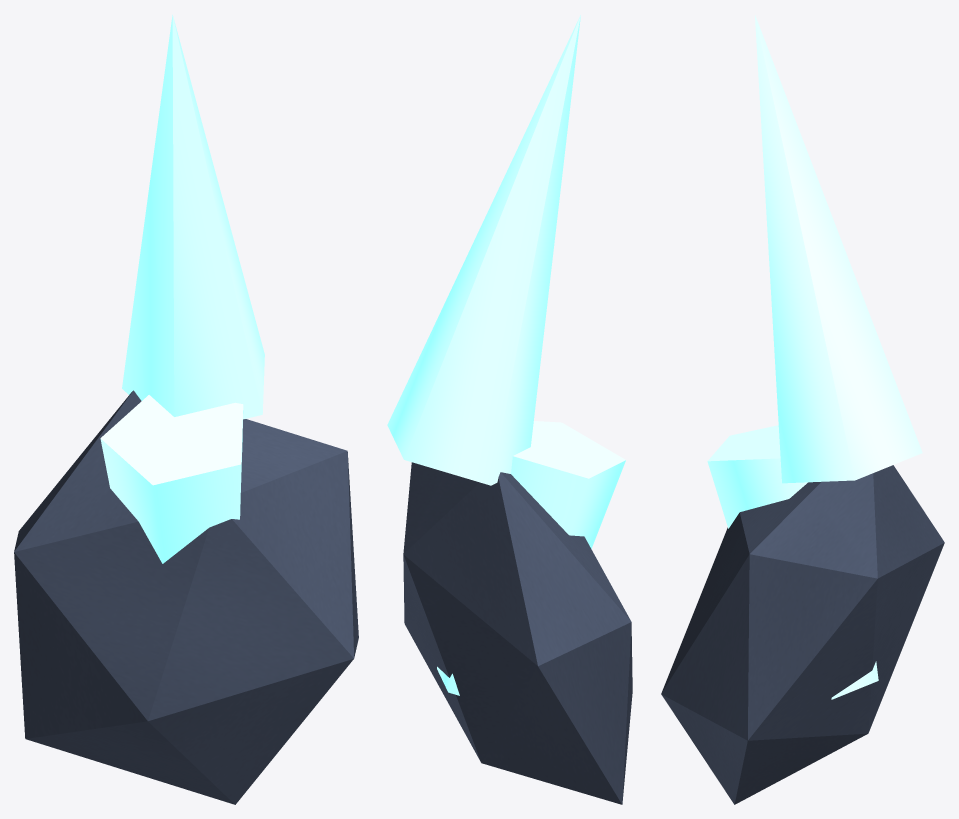
Rendered from detail-crystal-light.glb.
The picture shows the model from 3 angles, left to right: view 1: azimuth 30°, elevation 25°; view 2: azimuth 150°, elevation 25°; view 3: azimuth 270°, elevation 25°; orthographic projection. The views are drawn at different scales.
Visible parts, largest first — view 1: detail-crystal-light_stone, detail-crystal-light_glow; view 2: detail-crystal-light_stone, detail-crystal-light_glow; view 3: detail-crystal-light_stone, detail-crystal-light_glow.
Boxes of the visible parts, x1,y1,x2,y2 form: detail-crystal-light_stone: (14, 390, 358, 804); detail-crystal-light_glow: (100, 15, 264, 563); detail-crystal-light_stone: (403, 462, 632, 804); detail-crystal-light_glow: (387, 15, 625, 695); detail-crystal-light_stone: (661, 465, 944, 804); detail-crystal-light_glow: (707, 15, 922, 699).
Bounding box in the file's own units: 0.5071 × 1.34 × 0.4501.
2 materials, 1 textured.
